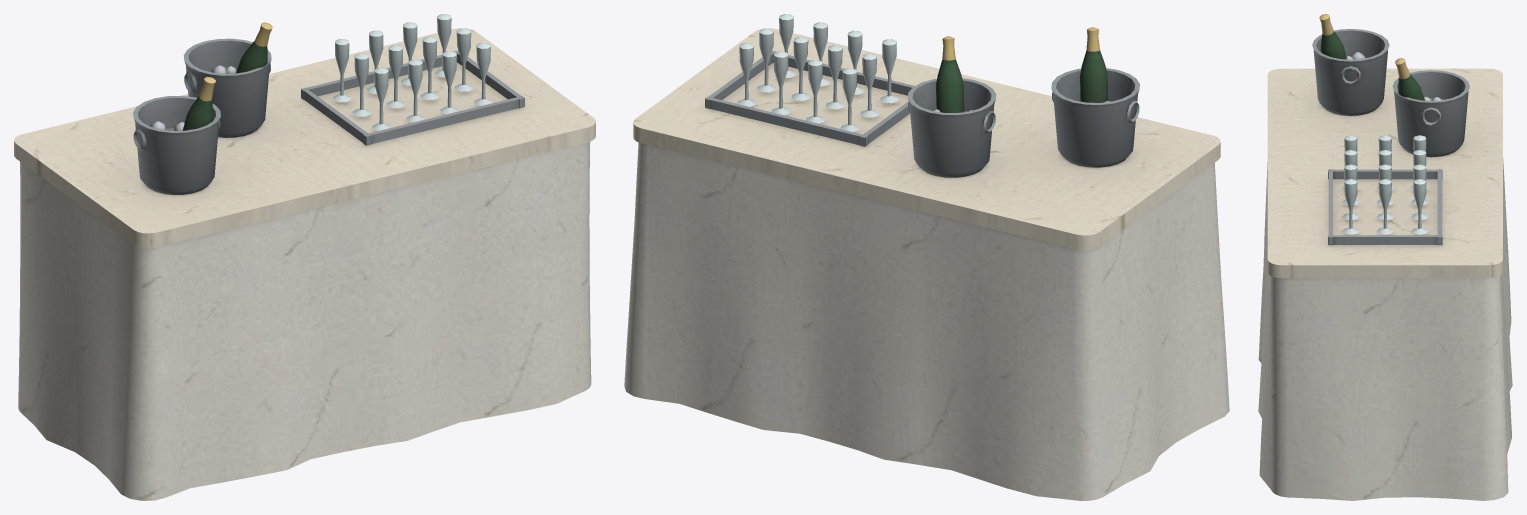
File: champagne_service.glb
The picture shows the model from 3 angles, left to right: view 1: azimuth 30°, elevation 25°; view 2: azimuth 150°, elevation 25°; view 3: azimuth 270°, elevation 25°; orthographic projection. The views are drawn at different scales.
Visible parts, largest first — view 1: champagne_service; view 2: champagne_service; view 3: champagne_service.
Part boxes in pixels (x1=…): champagne_service: x1=14, y1=14, x2=595, y2=500; champagne_service: x1=624, y1=14, x2=1229, y2=500; champagne_service: x1=1258, y1=14, x2=1512, y2=500.
Bounding box in the file's own units: 1.69 × 1.27 × 0.8853.
1 material, 1 textured.
